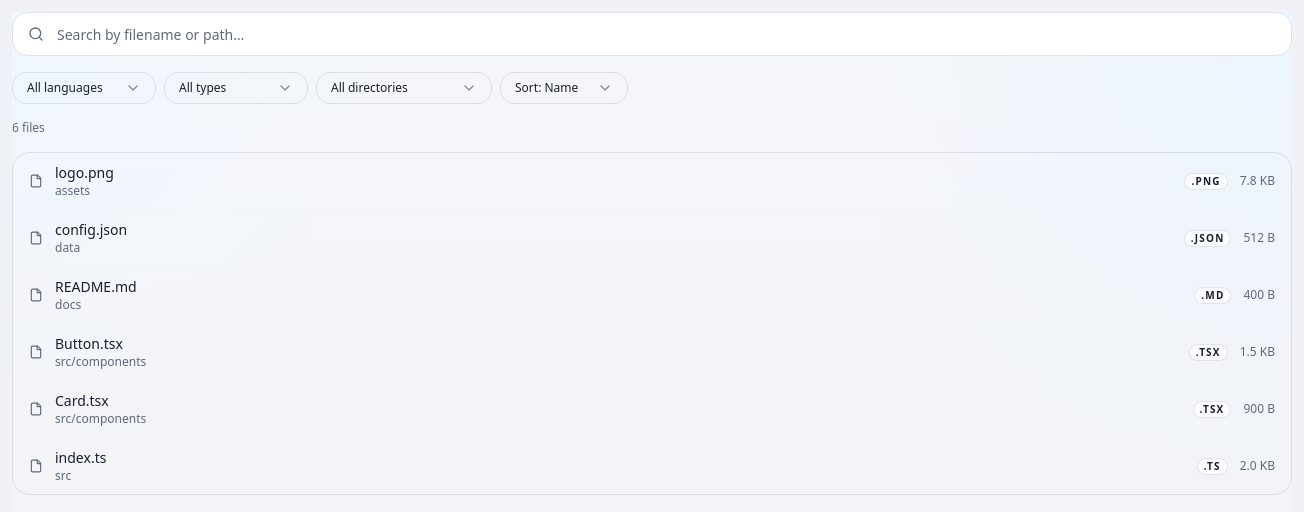
Test: SearchFilterTab — search › clears query when X is clicked
Type "README" into the field with placeholder "Search by filename or path…".
click(652, 34); type("README")  # box [12,12,1292,56]
Wait 300 ms
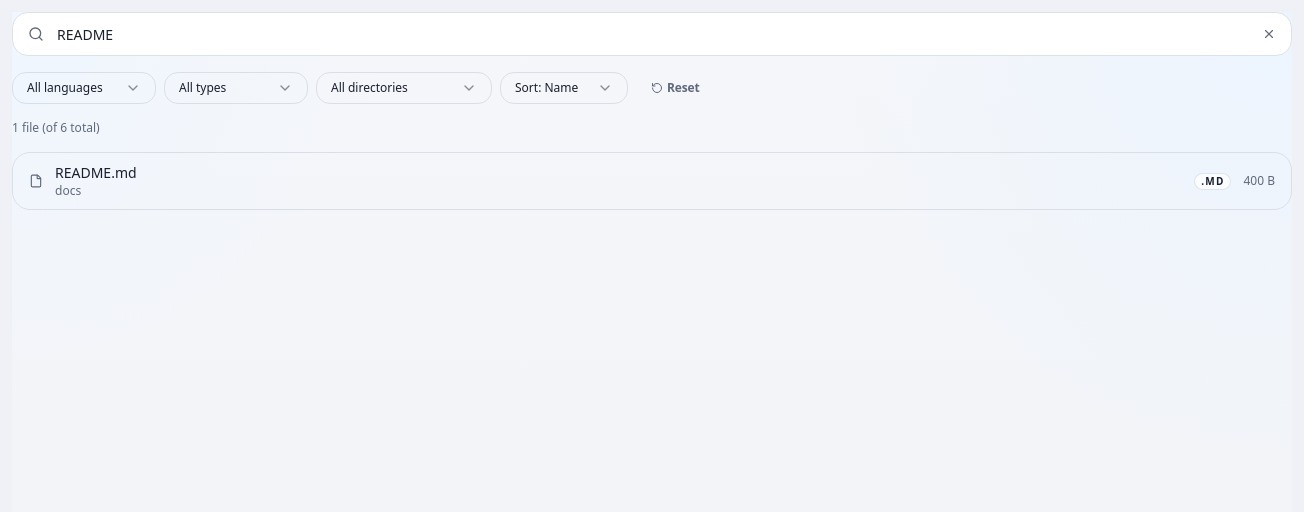
Click the button named "clear search".
click(1269, 34)  # box [1262,27,1276,41]
Wait 300 ms
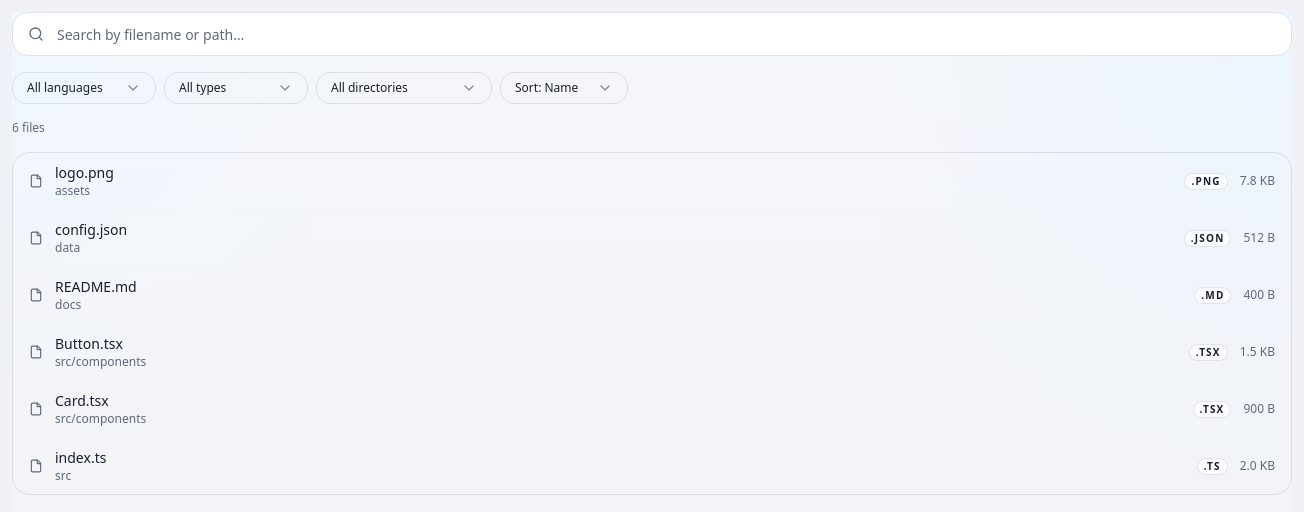
Check: the text "6 files" is shown, box [12,119,45,136]
